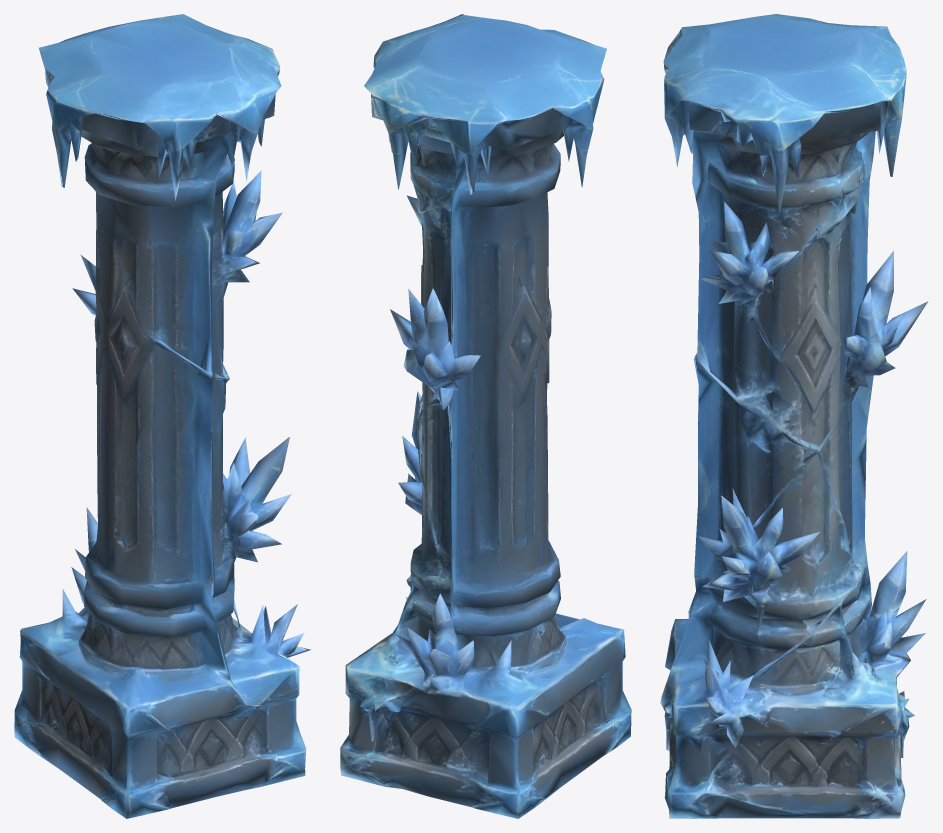
The model's file is pillar.glb.
3 views of the same model, side by side, from view 1: azimuth 30°, elevation 25°; view 2: azimuth 150°, elevation 25°; view 3: azimuth 270°, elevation 25° (orthographic). The views are drawn at different scales.
Parts seen in each view (by area): view 1: tripo_node_94c53fd7-fc81-490b-82a4-30c25d69bb97; view 2: tripo_node_94c53fd7-fc81-490b-82a4-30c25d69bb97; view 3: tripo_node_94c53fd7-fc81-490b-82a4-30c25d69bb97.
Boxes of the visible parts, bbox=[...] form: tripo_node_94c53fd7-fc81-490b-82a4-30c25d69bb97: bbox=[14, 14, 311, 818]; tripo_node_94c53fd7-fc81-490b-82a4-30c25d69bb97: bbox=[340, 14, 631, 818]; tripo_node_94c53fd7-fc81-490b-82a4-30c25d69bb97: bbox=[660, 14, 928, 818].
Size of the model in its own units: 0.3317 by 1 by 0.3339.
Materials: 1 (1 with a texture image).
